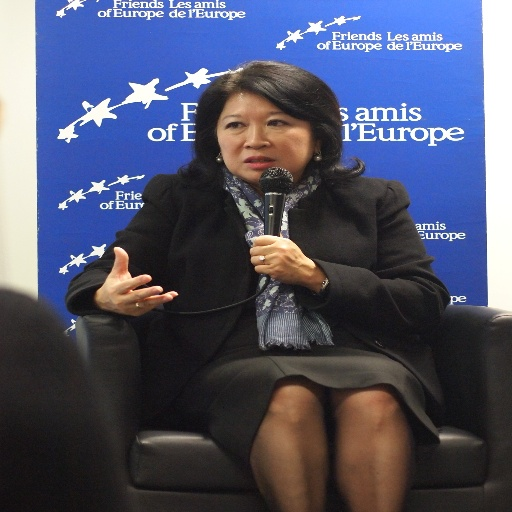hand: (94, 243, 175, 312), (249, 231, 316, 292)
